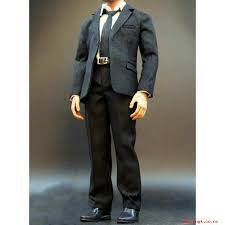F_belt: (91, 55, 117, 66)
F_dress pants: (79, 81, 147, 211)
